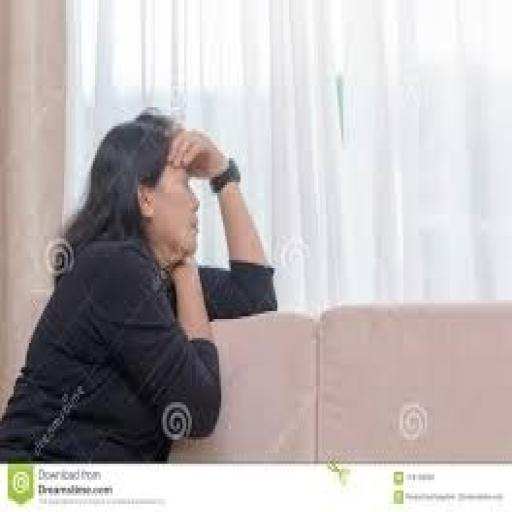sitting: (0, 104, 277, 463)
